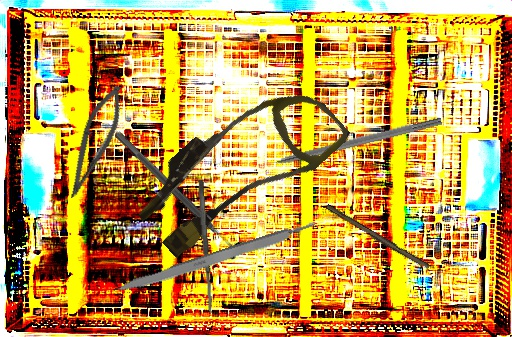Cannula: (124, 58, 353, 278)
Fixation Ring: (107, 123, 251, 263)
Hook Surgical: (252, 114, 443, 173)
Micro Scissor: (61, 80, 131, 205)
Scalpel Handle: (112, 219, 319, 299), (323, 203, 432, 272)
Spatula Surgical: (197, 179, 214, 314)
